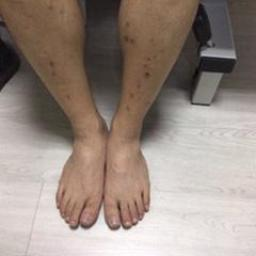Dorsal View -Both Feet-: (42, 92, 161, 234)
